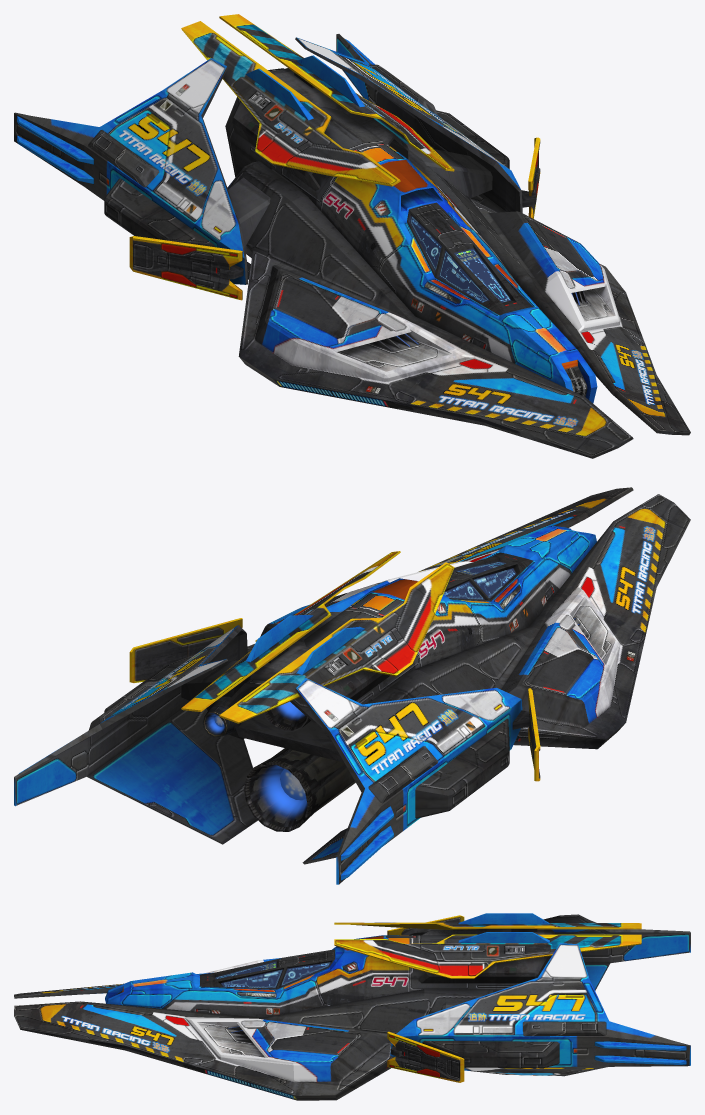
The model's file is SciFi-Racing Ship_02.FBX.
3 renders of one model, top to bottom at view 1: azimuth 30°, elevation 25°; view 2: azimuth 150°, elevation 25°; view 3: azimuth 270°, elevation 25°, orthographic. The views are drawn at different scales.
Parts seen in each view (by area): view 1: Race_Ship_02; view 2: Race_Ship_02; view 3: Race_Ship_02.
Part boxes in pixels (x1,y1,x2,y2): Race_Ship_02: (14, 14, 690, 458); Race_Ship_02: (14, 487, 690, 884); Race_Ship_02: (14, 913, 690, 1100).
Bounding box in the file's own units: 299 × 135 × 597.
